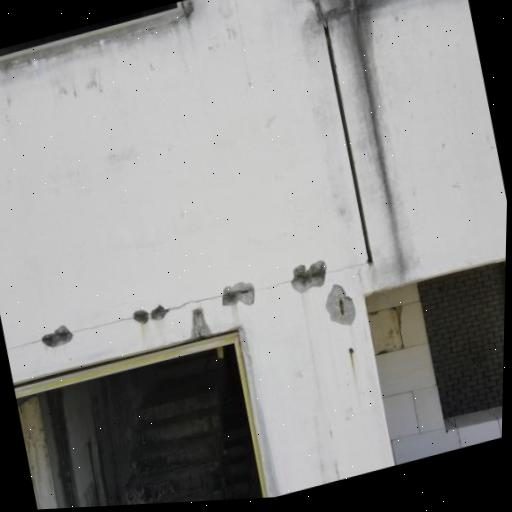exposed_rebar: (42, 330, 70, 342), (223, 289, 248, 298), (150, 307, 164, 318), (338, 299, 344, 314), (133, 313, 147, 319), (311, 270, 322, 277), (297, 274, 308, 278)
spalling: (325, 285, 355, 324), (292, 260, 326, 293), (223, 281, 255, 308), (132, 304, 168, 324), (41, 325, 72, 346), (192, 308, 209, 337)
